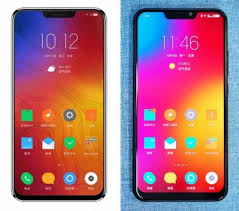lenovo: (9, 4, 106, 202), (130, 4, 227, 202)
